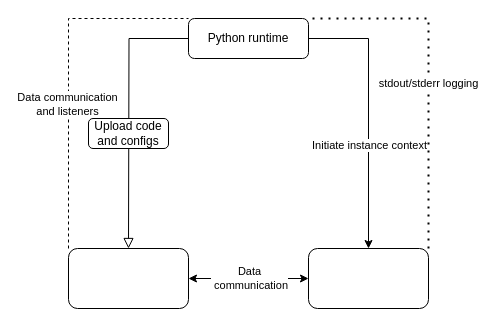
The diagram is 495 pixels wide and 326 high, and some of its shapes have lost their labels. The shapes that lost their labels are listed below. From the top down, each one's box as (x1, y1, x2, y2) in pixels, then its label:
(68, 248, 188, 308): AWS S3
(308, 248, 428, 308): EC2 runtime
